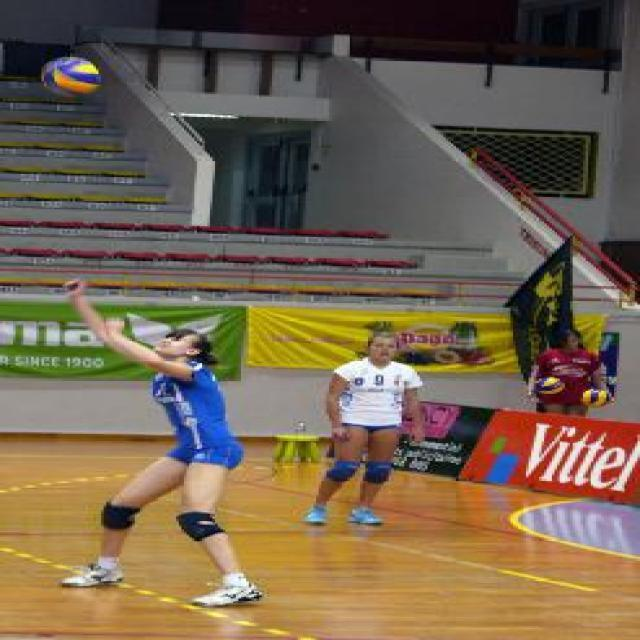volleyball: (41, 57, 104, 97)
